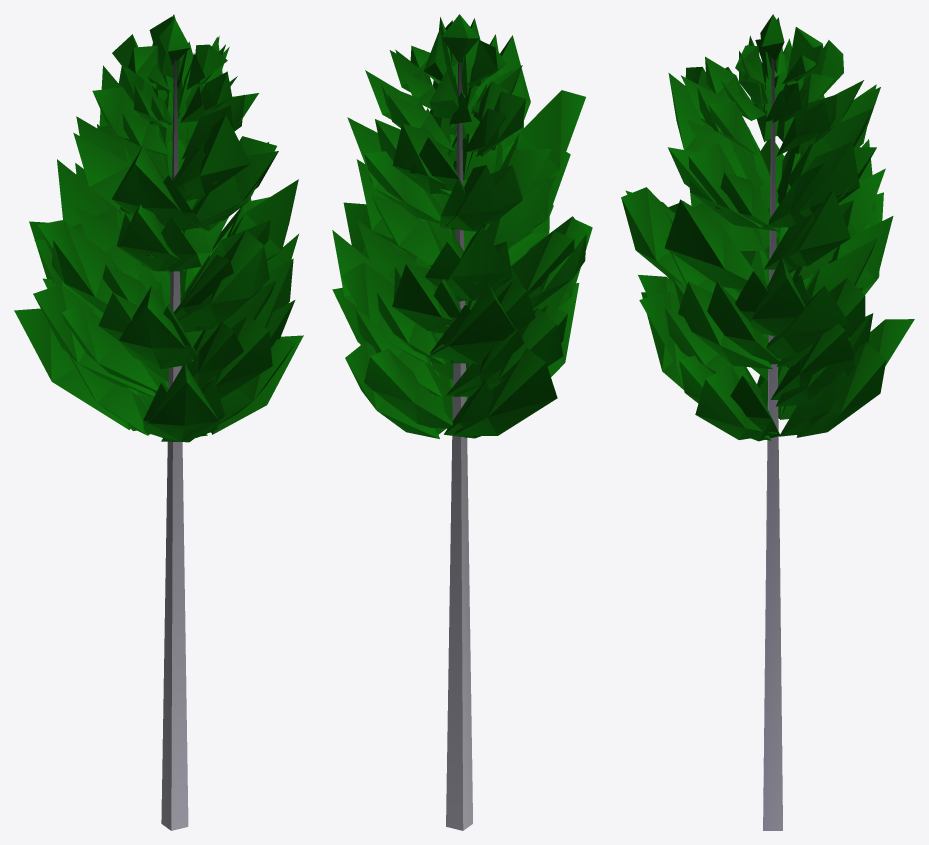
File: birch-lod1.glb
The picture shows the model from 3 angles, left to right: view 1: azimuth 30°, elevation 25°; view 2: azimuth 150°, elevation 25°; view 3: azimuth 270°, elevation 25°; orthographic projection.
Parts seen in each view (by area): view 1: tree; view 2: tree; view 3: tree.
Part boxes in pixels (x1,y1,x2,y2): tree: (14, 14, 303, 830); tree: (332, 14, 592, 830); tree: (621, 14, 914, 830).
Bounding box in the file's own units: 5.47 × 18 × 5.9.
